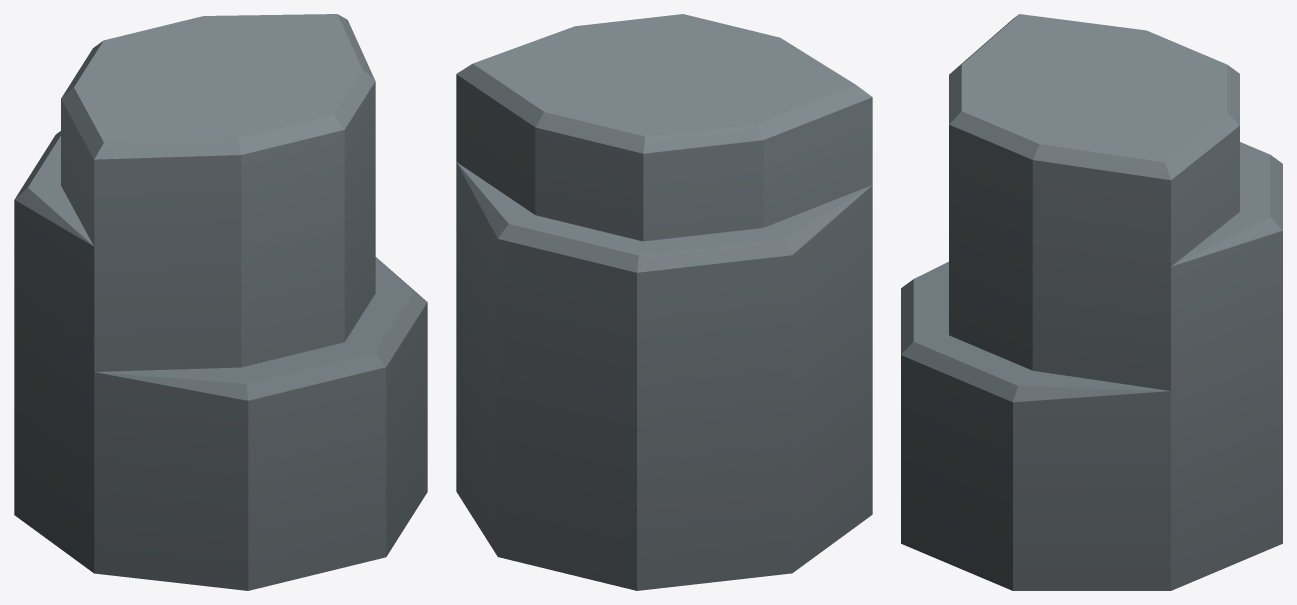
File: kf_rock_1_h.fbx
3 renders of one model, left to right at view 1: azimuth 30°, elevation 25°; view 2: azimuth 150°, elevation 25°; view 3: azimuth 270°, elevation 25°, orthographic.
Parts seen in each view (by area): view 1: kf_rock_1_h; view 2: kf_rock_1_h; view 3: kf_rock_1_h.
Boxes of the visible parts, left/top/right/bottom form: kf_rock_1_h: left=14, top=14, right=427, bottom=590; kf_rock_1_h: left=456, top=14, right=872, bottom=590; kf_rock_1_h: left=901, top=14, right=1282, bottom=590.
Size of the model in its own units: 3.68 by 4.48 by 3.68.
Materials: 1 (1 with a texture image).
